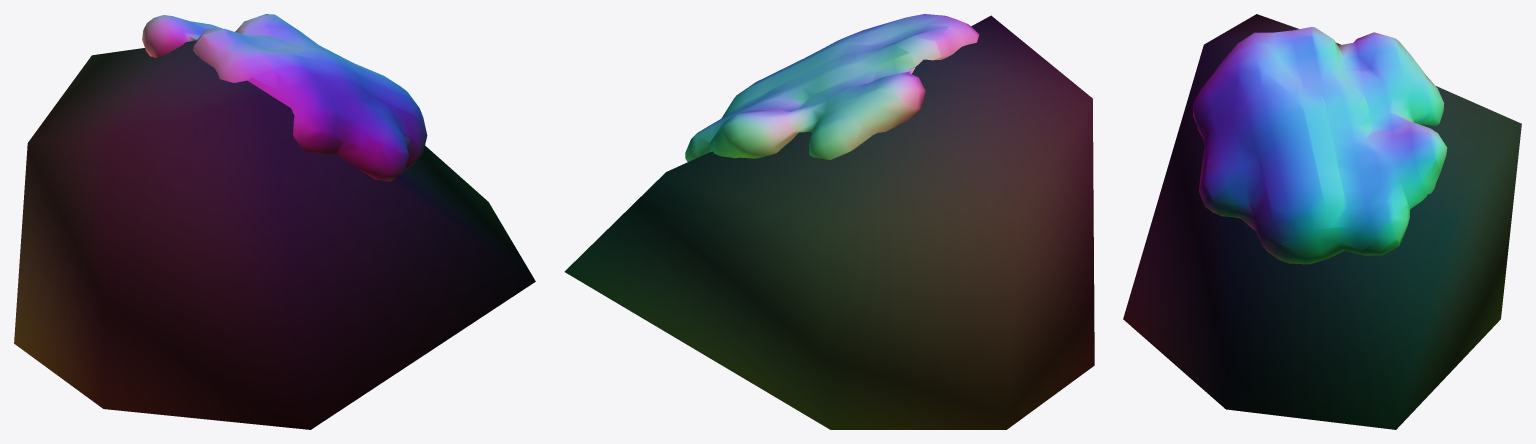
The model's file is rock2.fbx.
The picture shows the model from 3 angles, left to right: view 1: azimuth 30°, elevation 25°; view 2: azimuth 150°, elevation 25°; view 3: azimuth 270°, elevation 25°; orthographic projection. The views are drawn at different scales.
Parts seen in each view (by area): view 1: Rock 2, Snow 2; view 2: Rock 2, Snow 2; view 3: Rock 2, Snow 2.
Boxes of the visible parts, <box> form: Rock 2: <box>14,40,535,429</box>; Snow 2: <box>142,14,427,181</box>; Rock 2: <box>564,15,1094,429</box>; Snow 2: <box>685,14,979,161</box>; Rock 2: <box>1123,14,1521,429</box>; Snow 2: <box>1192,27,1447,264</box>.
Size of the model in its own units: 298 by 198 by 245.
